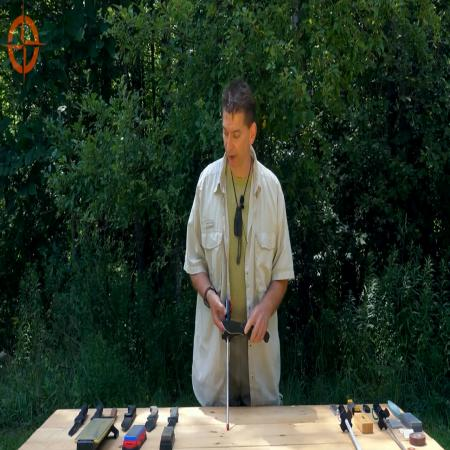long weapon: (220, 318, 270, 344)
